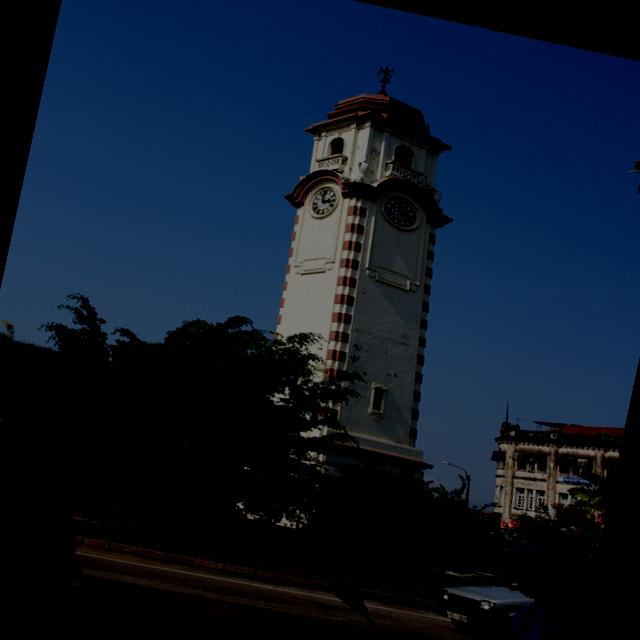Vehicle: (0, 414, 114, 596), (424, 559, 534, 640), (310, 572, 388, 640)
